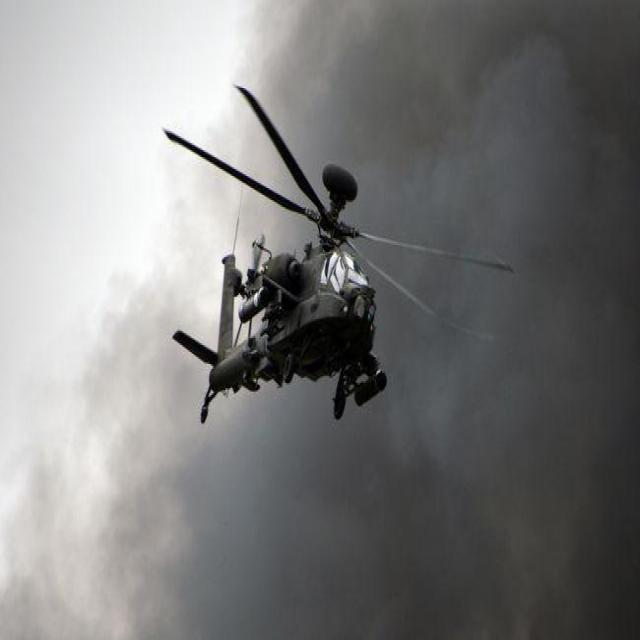MIL_HELO: (141, 68, 526, 446)
